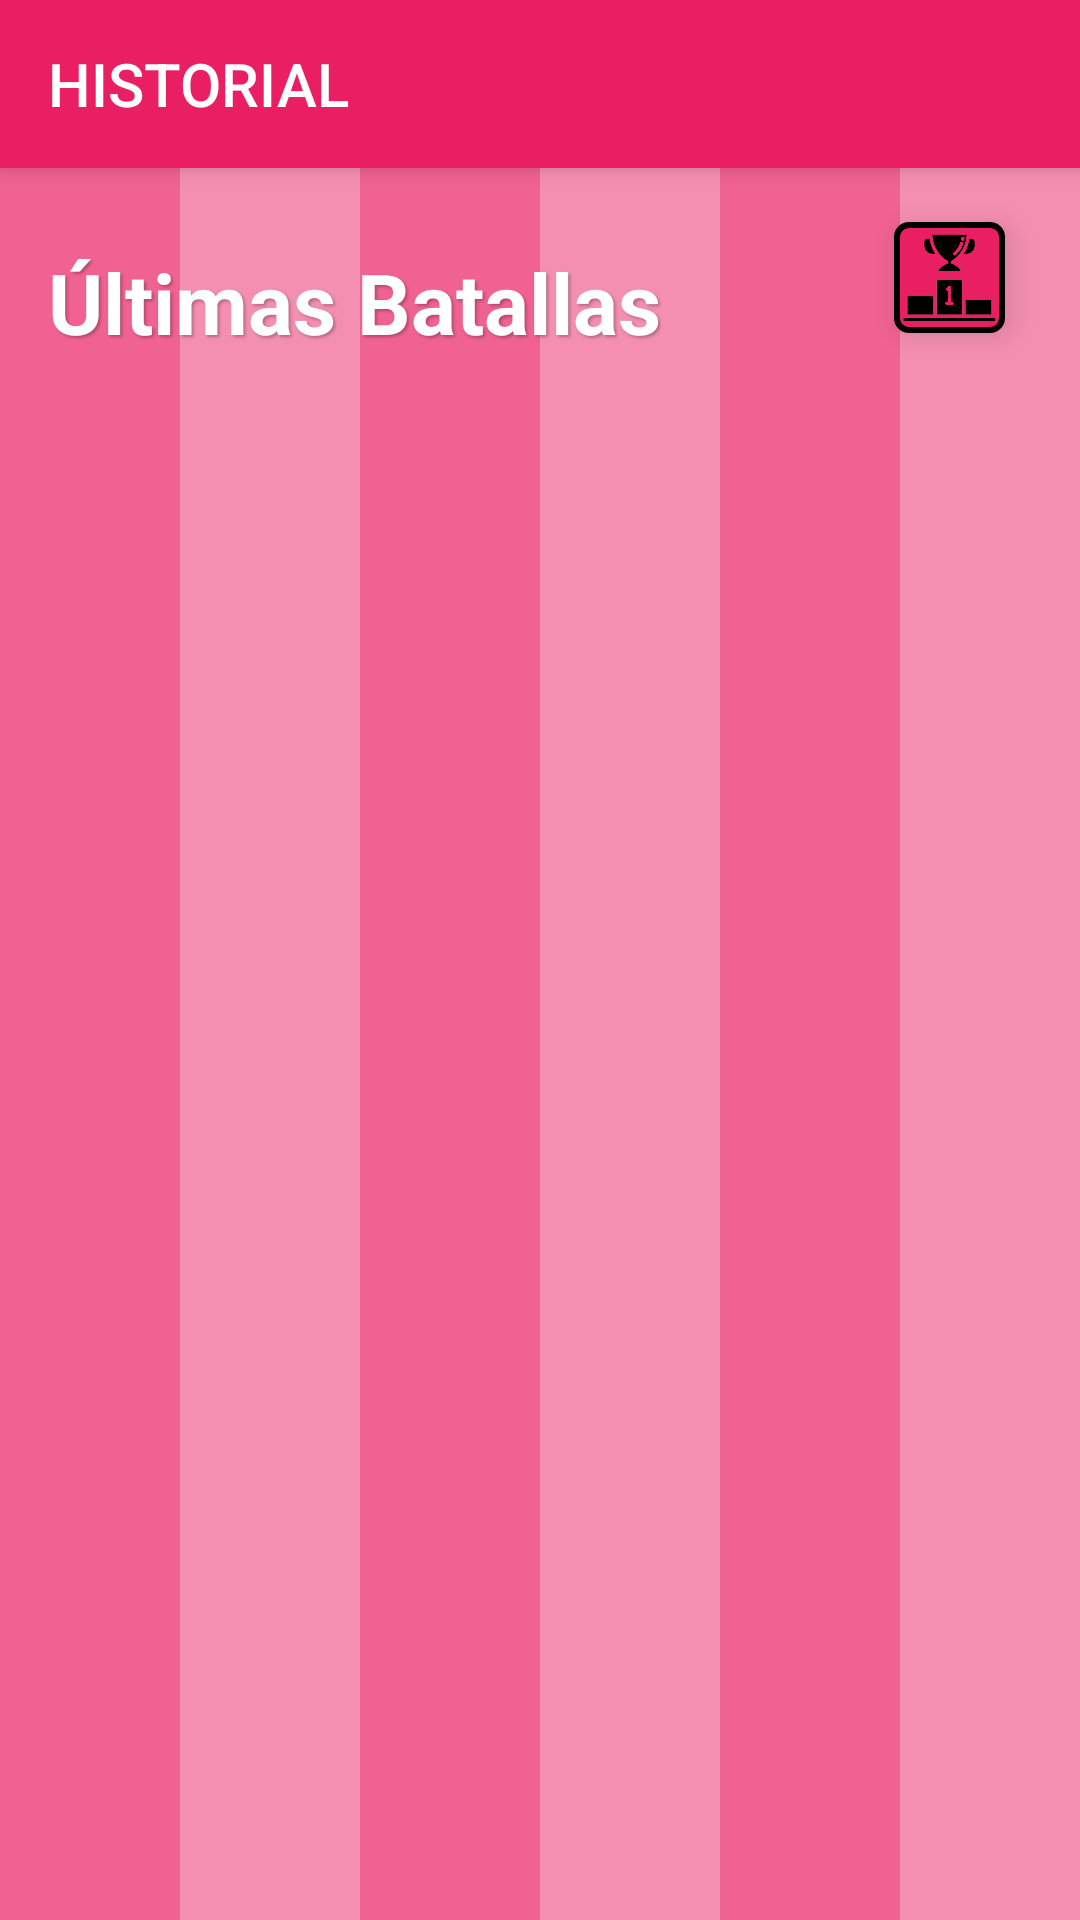

Locate icon controls on the screen. Image size 1080px x 1920px, boxes as bbox=[x1, y1, x2, y2].
podio: bbox=[867, 195, 1005, 360]
